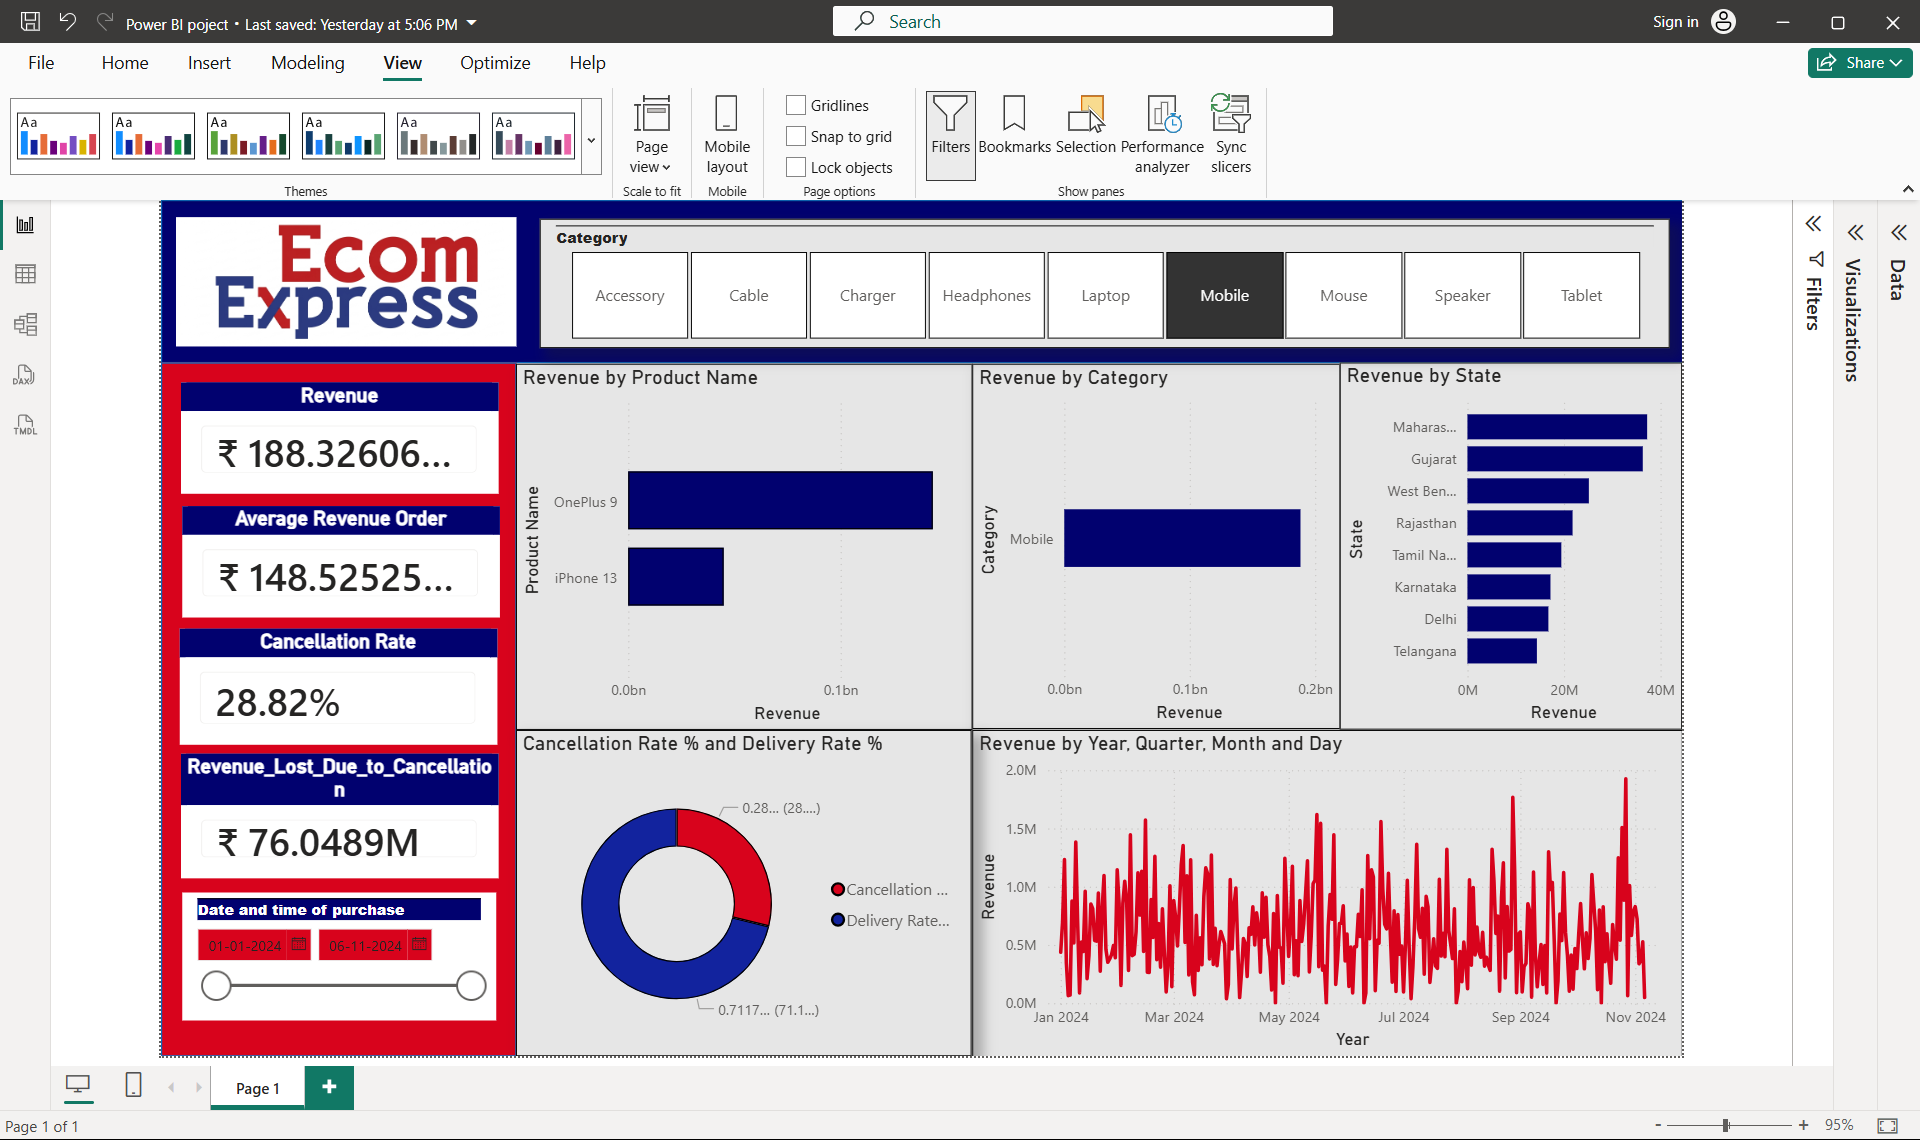

Layout of this report page (visuals, bound fields, positions):
{"tool":"powerbi","page":{"name":"Page 1","canvas":[1280,720],"ordinal":0},"visuals":[{"type":"shape","box":[0,0,1280.3,137.2],"z":0},{"type":"shape","box":[0,136.9,299,583.6],"z":1000},{"type":"image","box":[12.3,0,286.8,137.2],"z":2000},{"type":"barChart","fields":{"Y":["table.Revenue"],"Category":["Products.Product Name"]},"box":[298.6,137.7,383.8,308.1],"z":3000},{"type":"barChart","fields":{"Category":["Products.Category"],"Y":["table.Revenue"]},"box":[682,138.1,309.8,307.4],"z":4000},{"type":"lineChart","fields":{"Category":["Orders.Date and time of purchase.Variation.Date Hierarchy.Year","Orders.Date and time of purchase.Variation.Date Hierarchy.Quarter","Orders.Date and time of purchase.Variation.Date Hierarchy.Month","Orders.Date and time of purchase.Variation.Date Hierarchy.Day"],"Y":["table.Revenue"]},"box":[682,445.5,598,275],"z":5000},{"type":"barChart","fields":{"Category":["Customers.State"],"Y":["table.Revenue"]},"box":[991.8,136.9,288.2,308.6],"z":6000},{"type":"slicer","fields":{"Values":["Products.Category"]},"box":[318.6,15.4,950.2,109],"z":7000},{"type":"cardVisual","title":"Revenue","fields":{"Data":["table.Revenue"]},"box":[16.8,153.7,266.9,93.6],"z":8000},{"type":"cardVisual","title":"Average Revenue Order","fields":{"Data":["table.AverageRevenueOrder"]},"box":[18.2,257.1,266.9,93.6],"z":9000},{"type":"cardVisual","title":"Cancellation Rate","fields":{"Data":["table.Cancellation Rate"]},"box":[15.4,360.5,266.9,97.8],"z":10000},{"type":"cardVisual","title":"Revenue_Lost_Due_to_Cancellation","fields":{"Data":["table.Revenue_Lost"]},"box":[16.8,465.3,266.9,104.8],"z":11000},{"type":"slicer","fields":{"Values":["Orders.Date and time of purchase"]},"box":[18.2,582.7,264.1,107.6],"z":12000},{"type":"donutChart","fields":{"Y":["table.Cancellation Rate","table.Delivery Rate %"]},"box":[299,446,383,274],"z":13000}]}

Visuals, with their boxes on the page's 1280x720 design canvas (x1, y1, x2, y2). These are canvas units, not pixel positions in the 1920x1140 screenshot, which may show the page scaled, cropped or inside an application window:
shape: (x1=0, y1=0, x2=1280, y2=137)
shape: (x1=0, y1=137, x2=299, y2=720)
image: (x1=12, y1=0, x2=299, y2=137)
barChart - table.Revenue x Products.Product Name: (x1=299, y1=138, x2=682, y2=446)
barChart - Products.Category x table.Revenue: (x1=682, y1=138, x2=992, y2=446)
lineChart - Orders.Date and time of purchase.Variation.Date Hierarchy.Year x Orders.Date and time of purchase.Variation.Date Hierarchy.Quarter: (x1=682, y1=446, x2=1280, y2=720)
barChart - Customers.State x table.Revenue: (x1=992, y1=137, x2=1280, y2=446)
slicer - Products.Category: (x1=319, y1=15, x2=1269, y2=124)
"Revenue" cardVisual: (x1=17, y1=154, x2=284, y2=247)
"Average Revenue Order" cardVisual: (x1=18, y1=257, x2=285, y2=351)
"Cancellation Rate" cardVisual: (x1=15, y1=360, x2=282, y2=458)
"Revenue_Lost_Due_to_Cancellation" cardVisual: (x1=17, y1=465, x2=284, y2=570)
slicer - Orders.Date and time of purchase: (x1=18, y1=583, x2=282, y2=690)
donutChart - table.Cancellation Rate x table.Delivery Rate %: (x1=299, y1=446, x2=682, y2=720)
